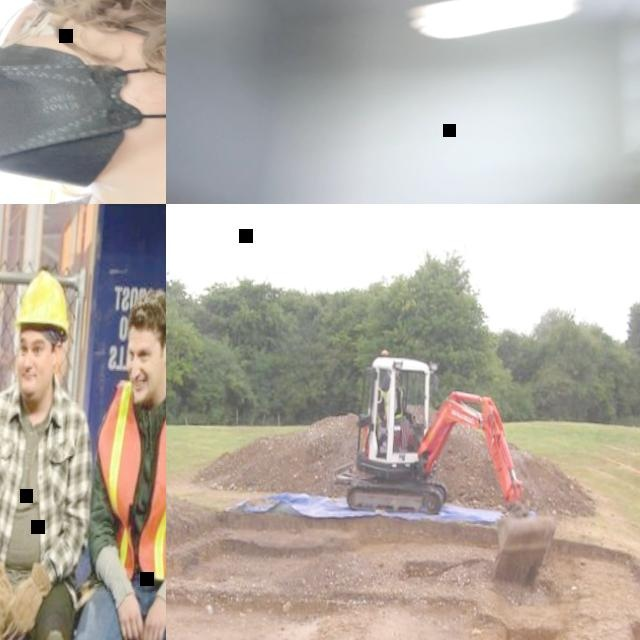Hardhat: (17, 269, 77, 333), (387, 368, 400, 378)
Mask: (0, 41, 166, 195)
NO-Hardhat: (21, 0, 166, 49), (127, 286, 166, 342)
NO-Mask: (11, 364, 48, 402), (131, 371, 163, 408)
NO-Safety Vest: (0, 386, 72, 565)
Person: (0, 253, 108, 640), (62, 281, 166, 640), (0, 0, 166, 204), (375, 367, 420, 446)
Safety Vest: (85, 362, 166, 594), (379, 383, 404, 421)
machinery: (340, 350, 570, 595)
